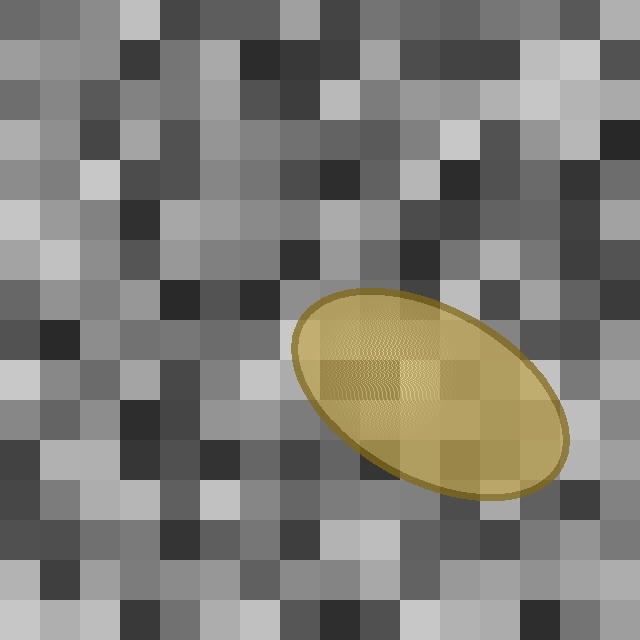lens: (294, 291, 566, 497)
